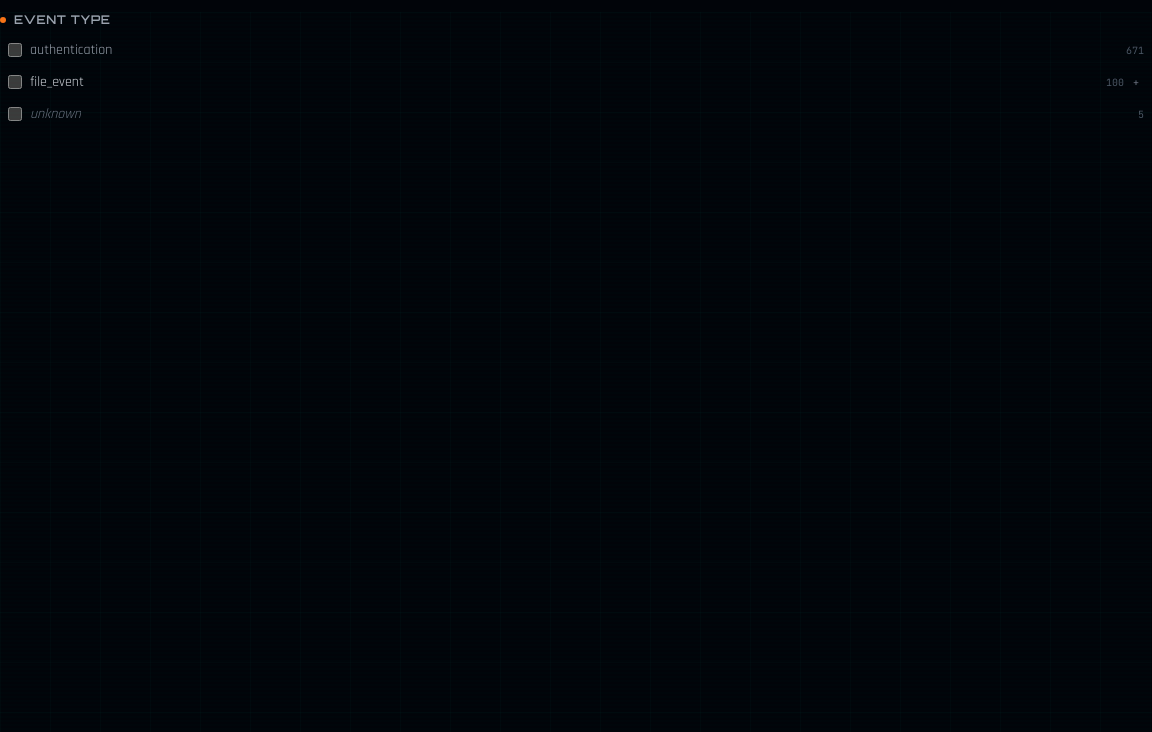
Test case: GroupedFacet › renders parents collapsed, expands to children, keeps unknown last
Check: the text "100" is shown, box [1106, 74, 1124, 90]
Check: the text "file_delete" is not shown
Step 1. Click the button named "Expand file_event" → (1136, 82), box [1128, 74, 1144, 90]
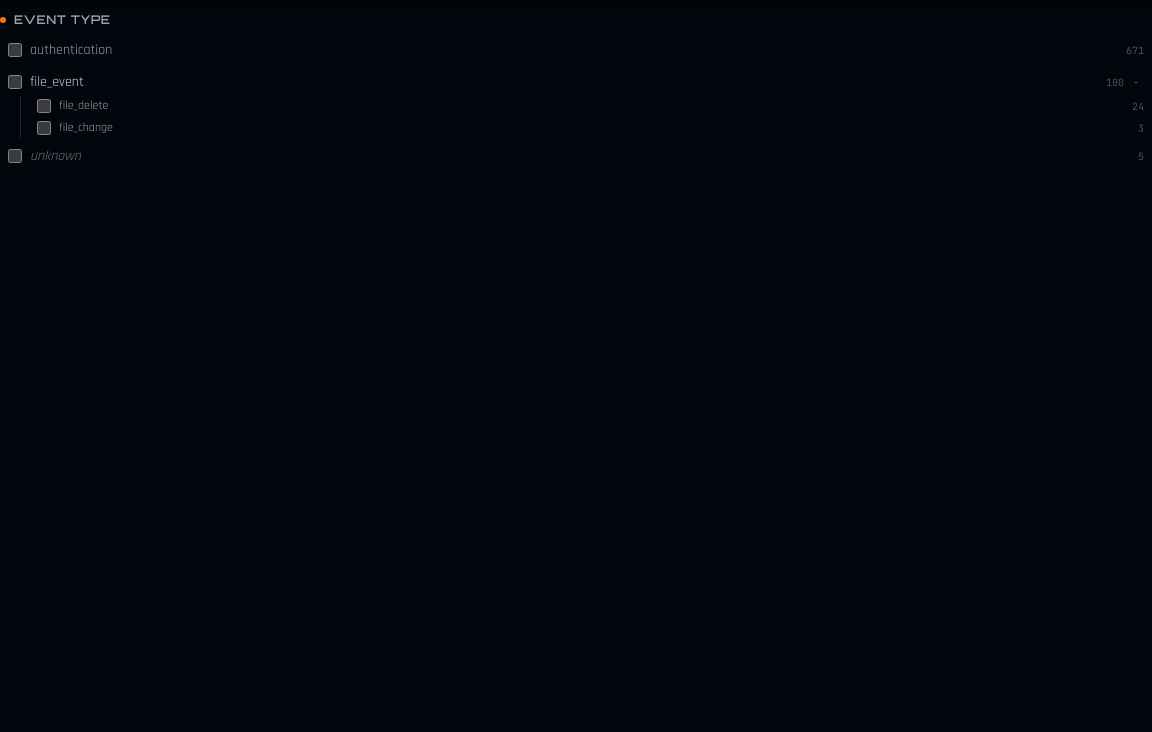
Check: the text "file_delete" is shown, box [59, 98, 108, 114]
Check: the text "24" is shown, box [1132, 98, 1144, 114]
